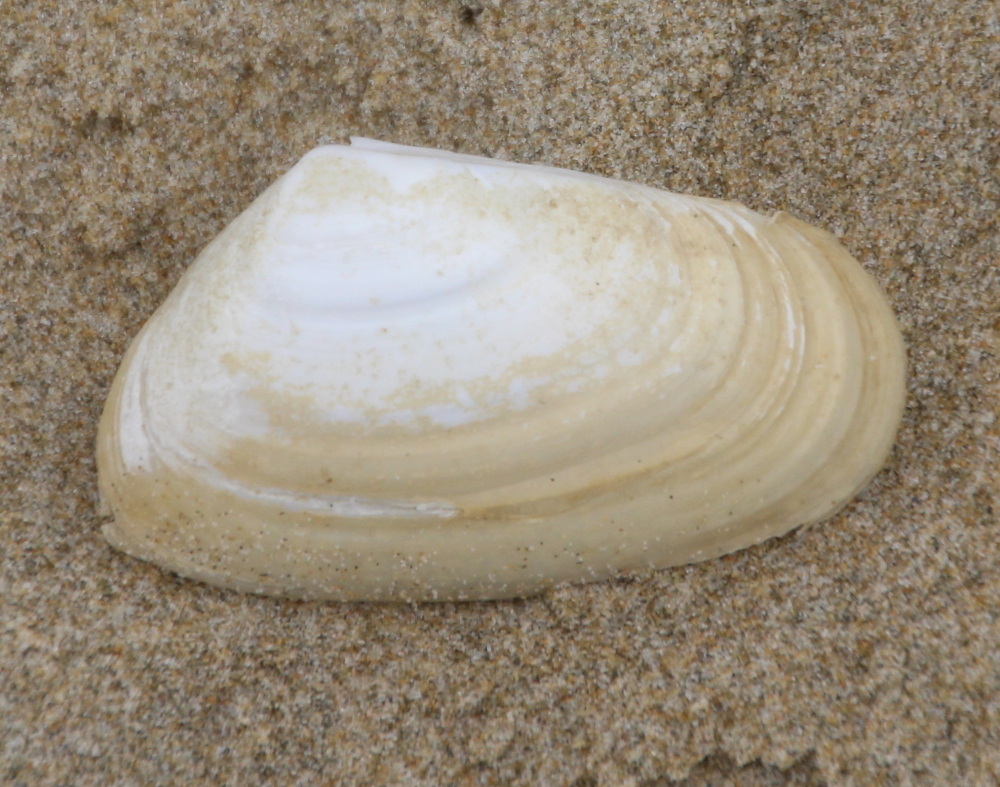tuatua: (91, 122, 922, 618)
